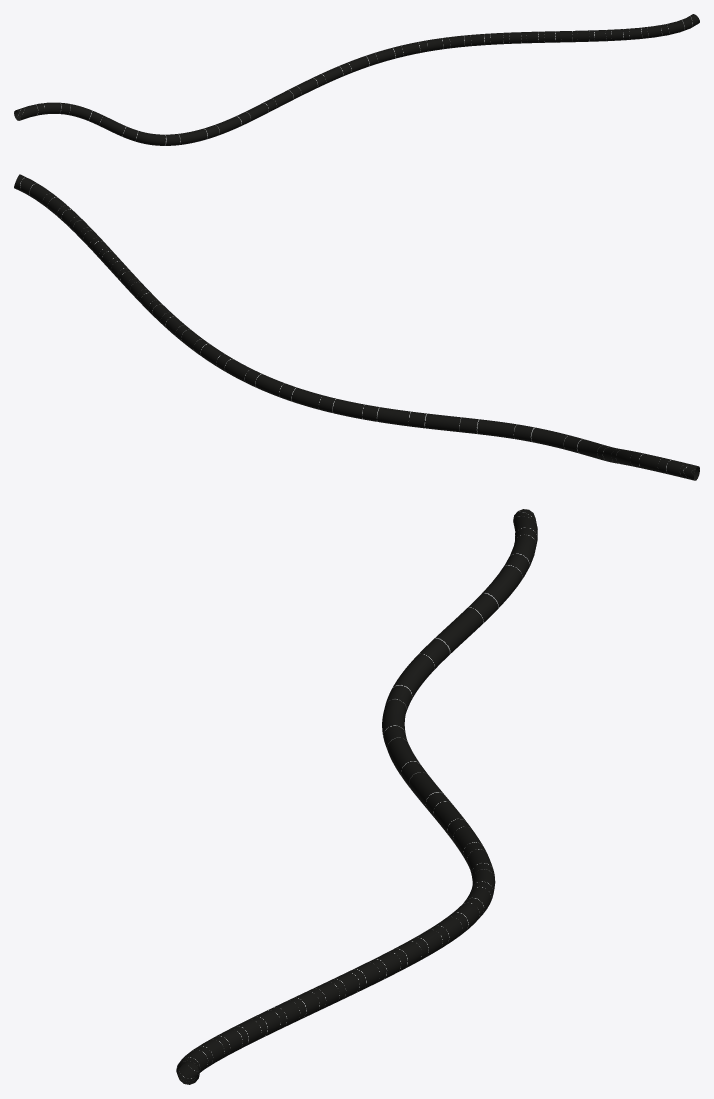
Rendered from cable_r_1.glb.
3 renders of one model, top to bottom at view 1: azimuth 30°, elevation 25°; view 2: azimuth 150°, elevation 25°; view 3: azimuth 270°, elevation 25°, orthographic. The views are drawn at different scales.
Visible parts, largest first — view 1: NurbsPath.009; view 2: NurbsPath.009; view 3: NurbsPath.009.
Boxes of the visible parts, x1=… form: NurbsPath.009: x1=14, y1=14, x2=699, y2=145; NurbsPath.009: x1=14, y1=174, x2=699, y2=480; NurbsPath.009: x1=176, y1=509, x2=537, y2=1084.
Size of the model in its own units: 7.69 by 0.6858 by 2.02.
1 material, 1 textured.
